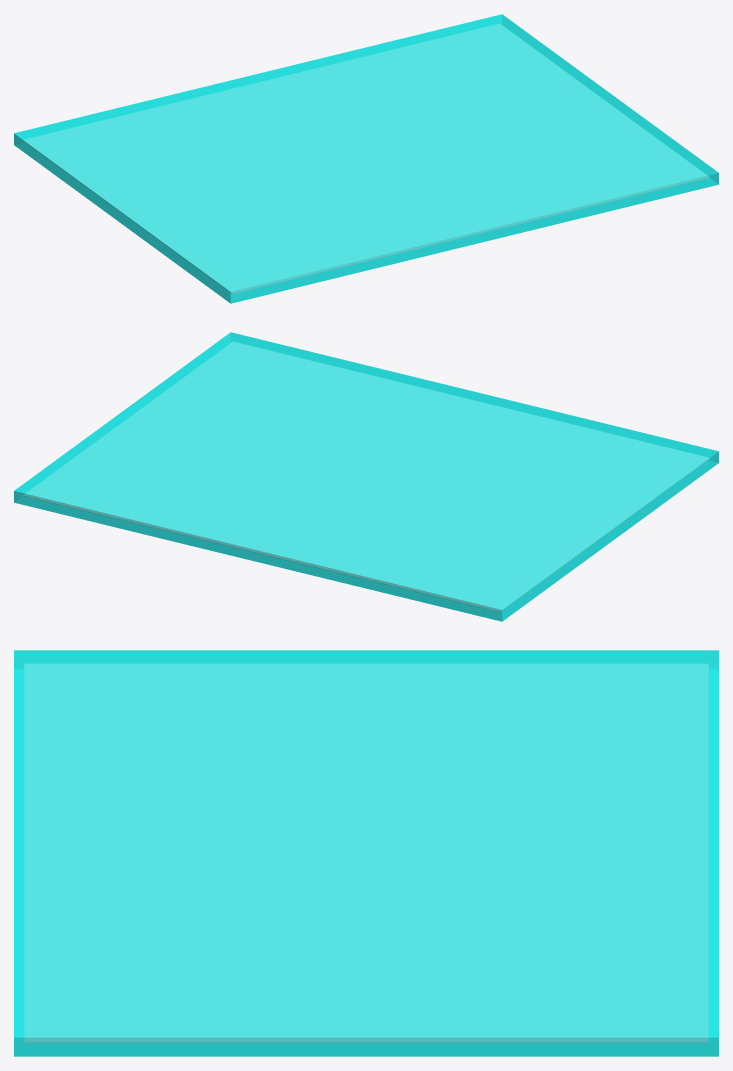
Rendered from Test outline et core séparés.fbx.
3 renders of one model, top to bottom at view 1: azimuth 30°, elevation 25°; view 2: azimuth 150°, elevation 25°; view 3: azimuth 270°, elevation 25°, orthographic. The views are drawn at different scales.
Visible parts, largest first — view 1: Arrival.002, Arrival.001; view 2: Arrival.002, Arrival.001; view 3: Arrival.002, Arrival.001.
Part boxes in pixels (x1,y1,x2,y2): Arrival.002: (14,14,718,303); Arrival.001: (23,23,709,294); Arrival.002: (14,332,718,621); Arrival.001: (23,341,709,612); Arrival.002: (14,650,718,1056); Arrival.001: (24,664,708,1042).
Size of the model in its own units: 2600 by 60 by 2000.
